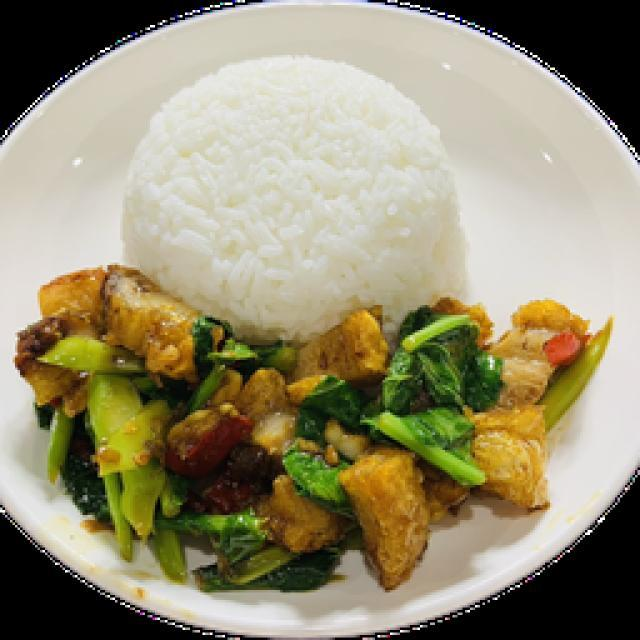cac loai rau cu: (74, 381, 185, 542), (385, 281, 496, 406), (360, 398, 493, 488), (158, 501, 264, 585), (279, 436, 350, 507), (46, 404, 84, 499), (200, 317, 255, 374), (48, 332, 121, 374), (541, 317, 591, 362)
com: (121, 50, 470, 339)
com chien cai xoan: (18, 54, 613, 594)
thit heo: (341, 442, 433, 581), (96, 263, 203, 379), (456, 410, 566, 513), (495, 291, 596, 400), (293, 303, 392, 392), (13, 314, 72, 409), (272, 502, 340, 561), (46, 266, 107, 330), (234, 363, 291, 422), (246, 396, 299, 453), (172, 398, 218, 448)
